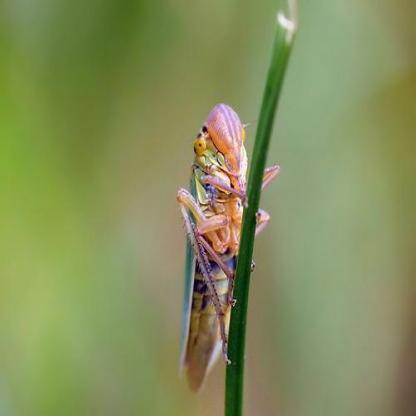Green-Leafhopper: (175, 101, 281, 393)
